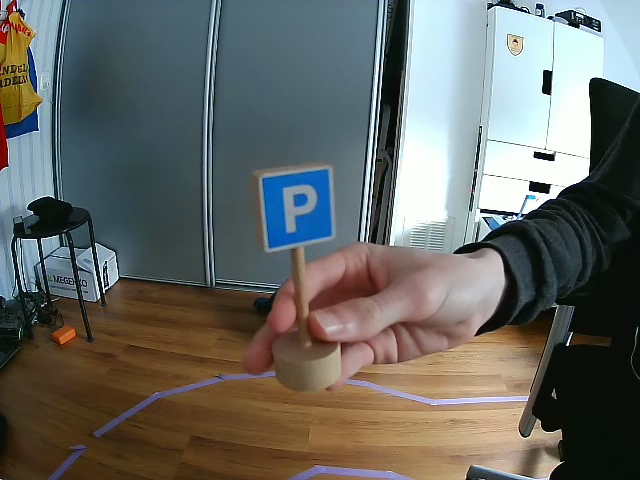parkeerbord: (259, 163, 332, 253)
